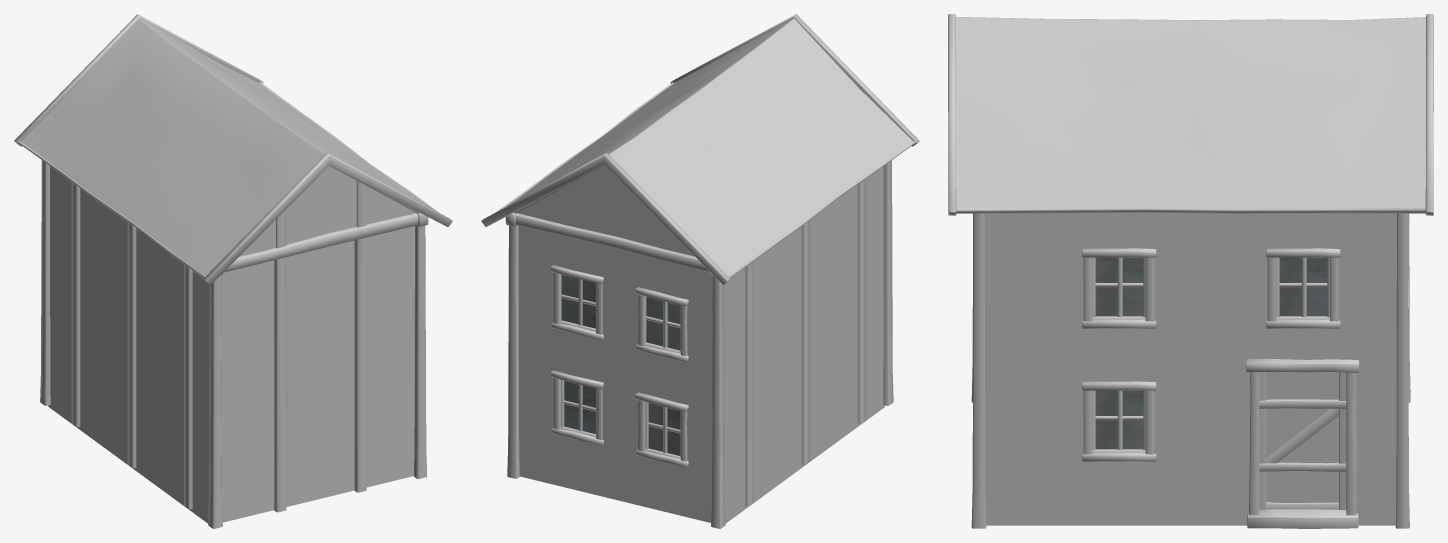
File: House_7.FBX
The picture shows the model from 3 angles, left to right: view 1: azimuth 30°, elevation 25°; view 2: azimuth 150°, elevation 25°; view 3: azimuth 270°, elevation 25°; orthographic projection. The views are drawn at different scales.
Visible parts, largest first — view 1: Mesh; view 2: Mesh; view 3: Mesh.
Boxes of the visible parts, x1,y1,x2,y2 form: Mesh: (14,14,452,528); Mesh: (481,14,919,528); Mesh: (948,14,1433,528).
Size of the model in its own units: 511 by 691 by 711.
